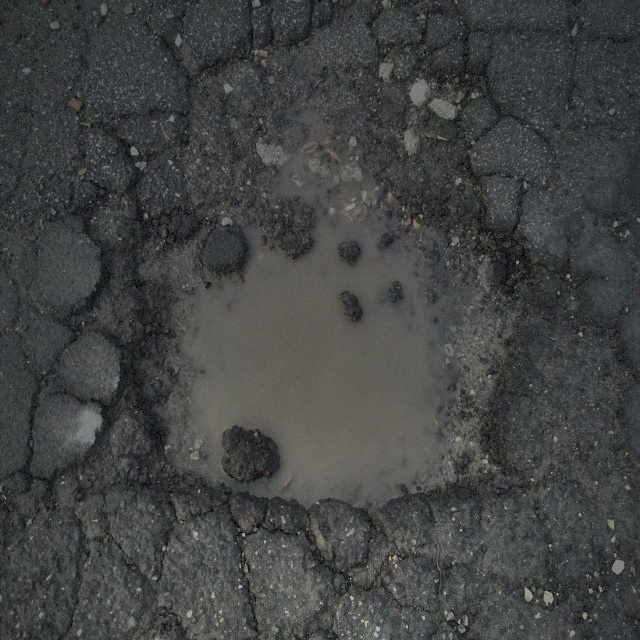pothole: (106, 107, 522, 523)
